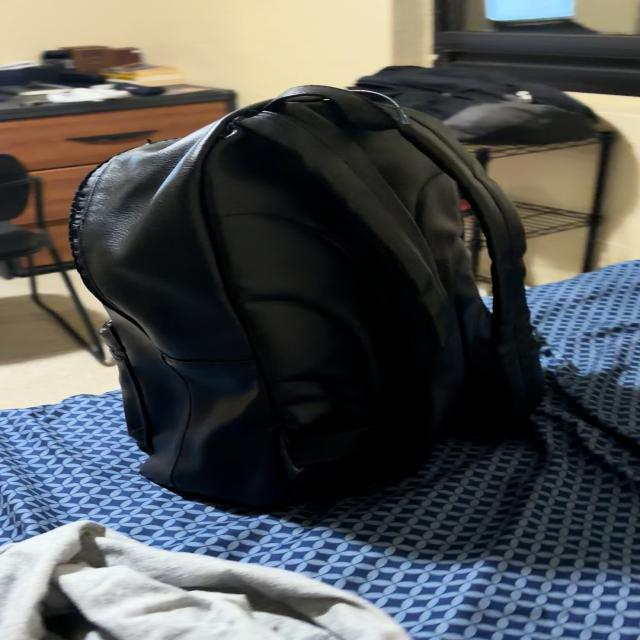backpack: (70, 86, 542, 506)
